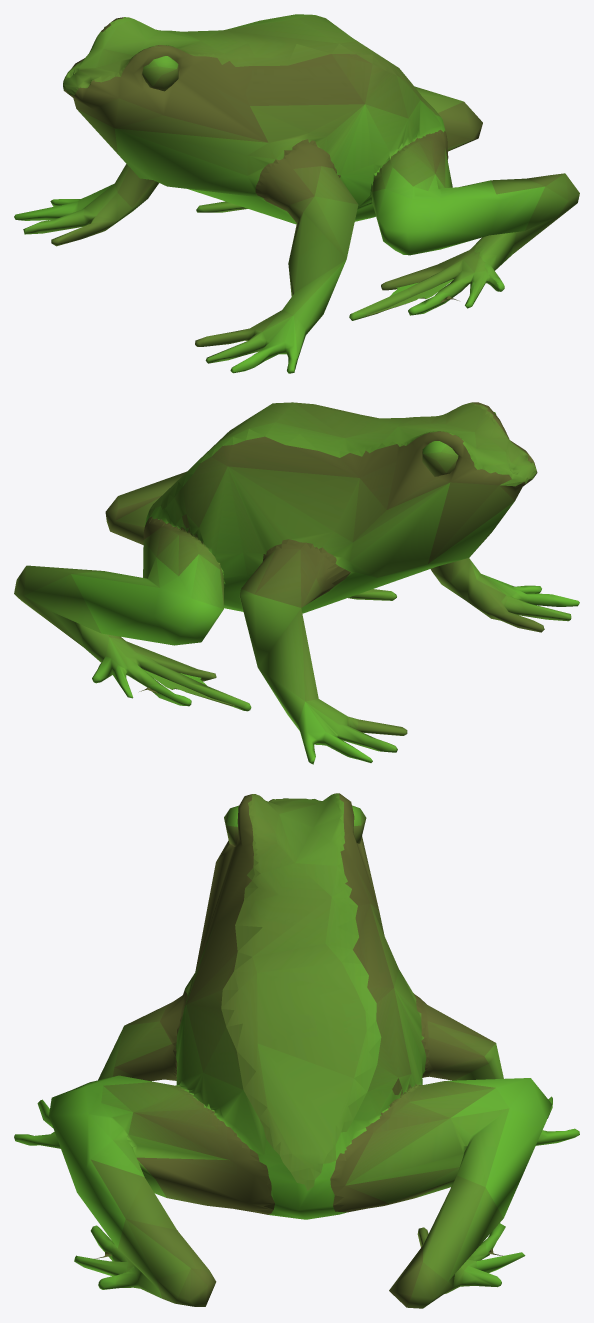
The model's file is qingwa.FBX.
3 renders of one model, top to bottom at view 1: azimuth 30°, elevation 25°; view 2: azimuth 150°, elevation 25°; view 3: azimuth 270°, elevation 25°, orthographic. The views are drawn at different scales.
Visible parts, largest first — view 1: BRMJMAIN001; view 2: BRMJMAIN001; view 3: BRMJMAIN001.
Part boxes in pixels (x1=…): BRMJMAIN001: x1=14, y1=14, x2=579, y2=373; BRMJMAIN001: x1=14, y1=402, x2=579, y2=764; BRMJMAIN001: x1=14, y1=793, x2=579, y2=1308.
Size of the model in its own units: 14.54 by 8.13 by 12.68.
